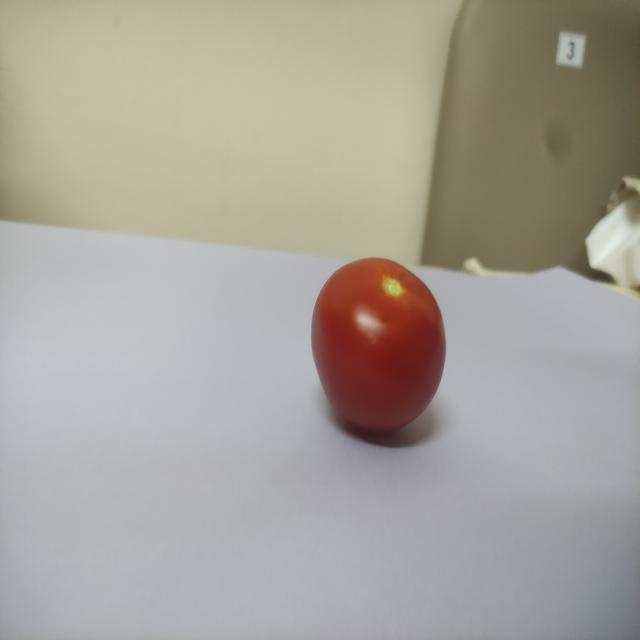kirmizi: (299, 227, 458, 440)
